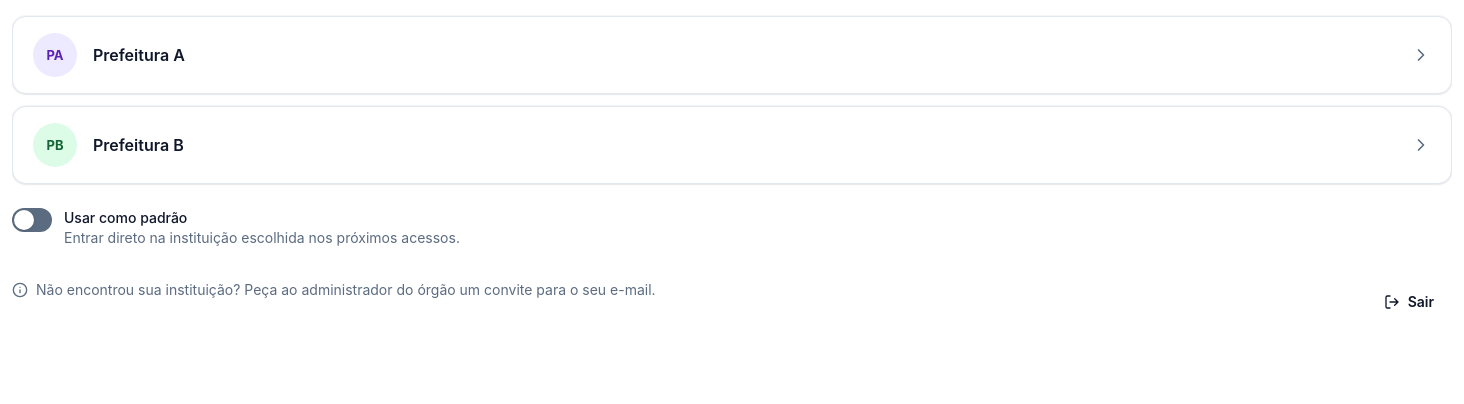
it: seleção de instituição (FA-01) › erro 403 PERMISSION_DENIED vira mensagem inline com role=alert
Click the button "PA Prefeitura A" at (55, 55), box [12,16,1452,94]
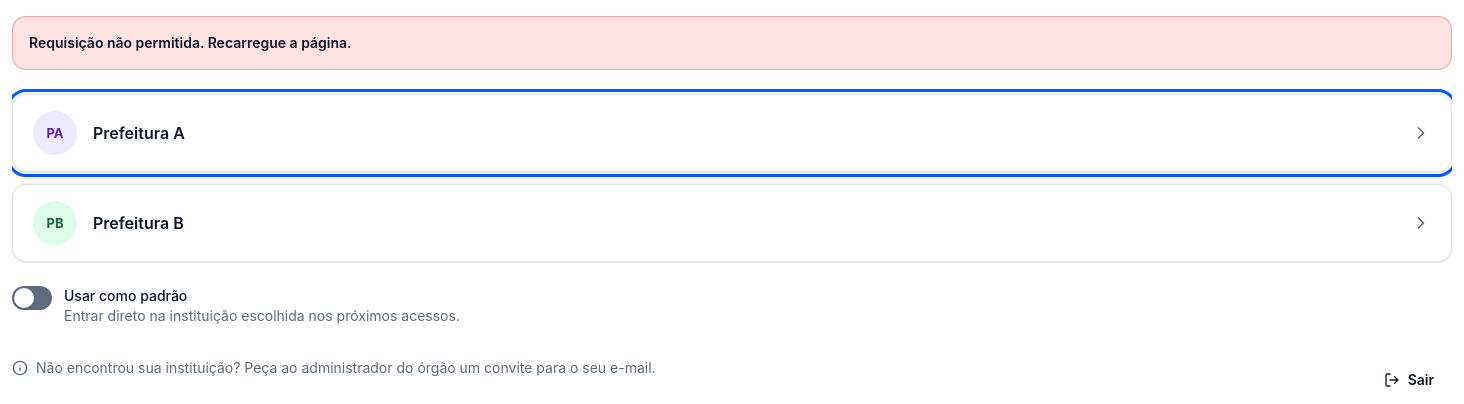
Result: the message reads "Requisição não permitida. Recarregue a página." at [29,34,352,51]
